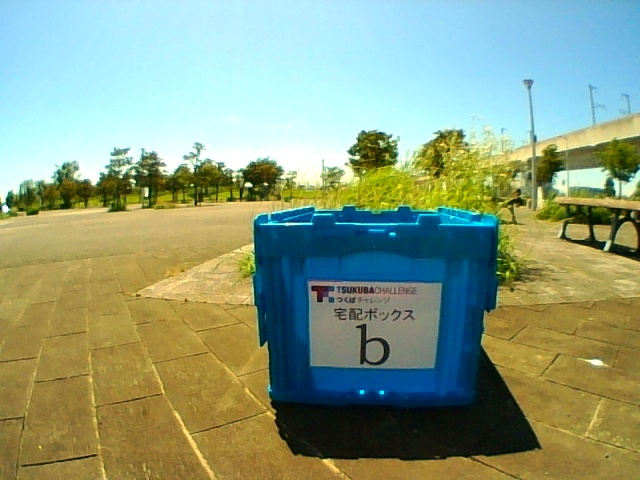blue_box: (272, 208, 476, 401)
tag_b: (310, 282, 434, 368)
